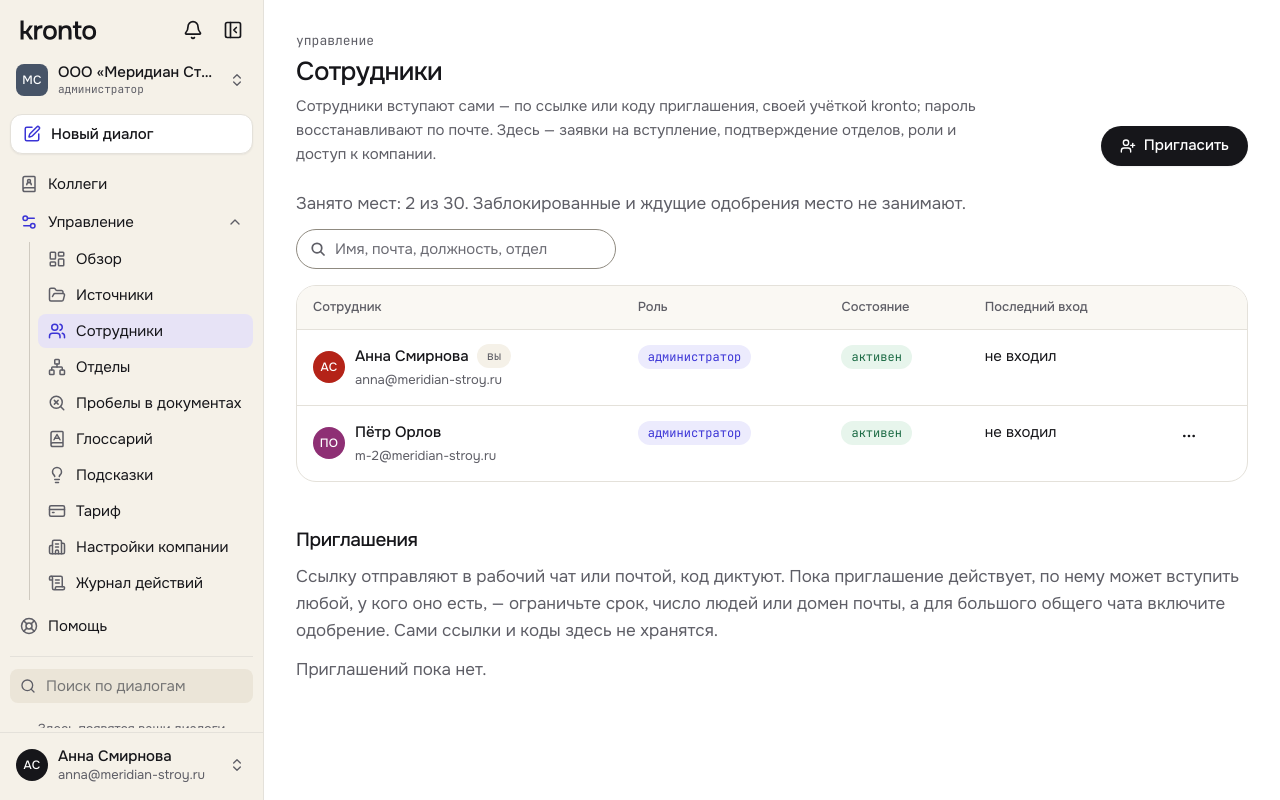
люди компании › отказ сервера (последний администратор) — во всплывающем сообщении
Expected: the text "Пётр Орлов" is shown, [355,420,441,444]
Step 1. Click the button named "Действия: Пётр Орлов" → (1189,436), box [1173,420,1205,452]
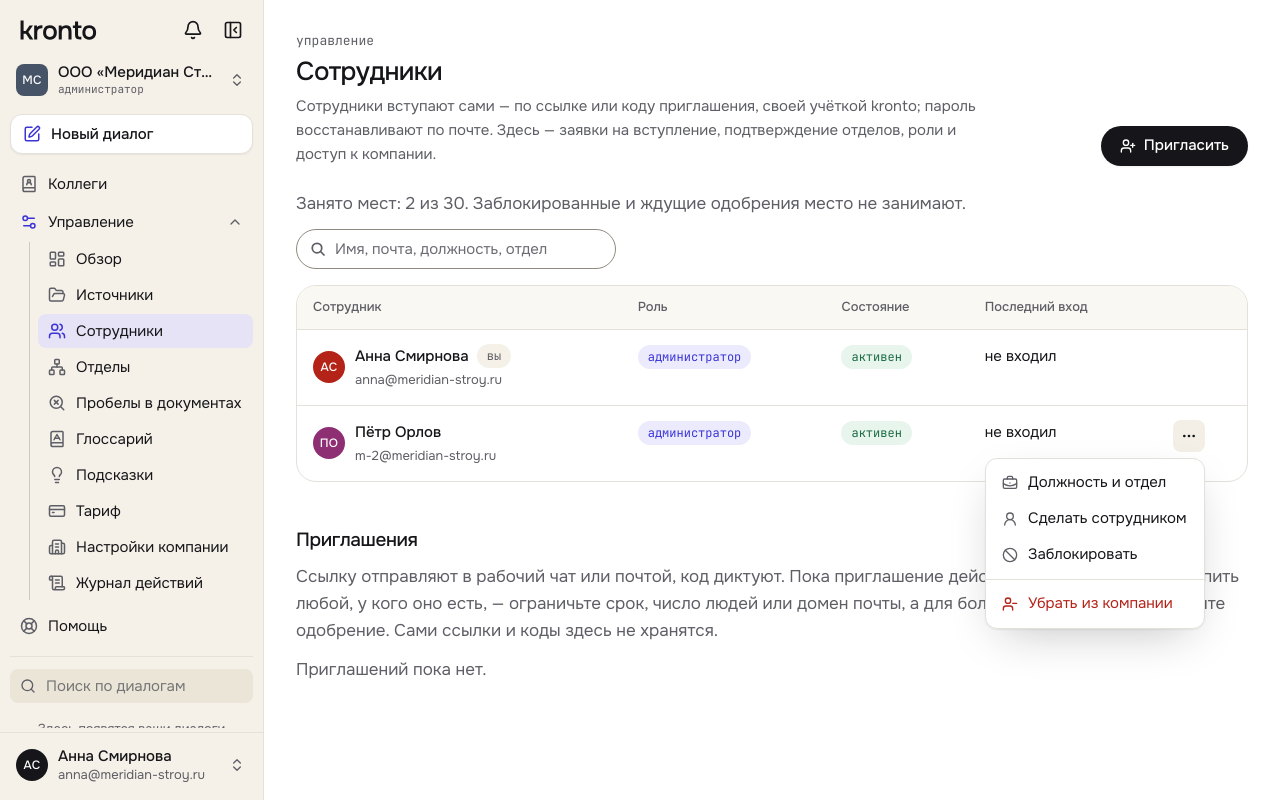
Step 2. Click the menu item "Сделать сотрудником" → (1094,518), box [1002,508,1186,528]
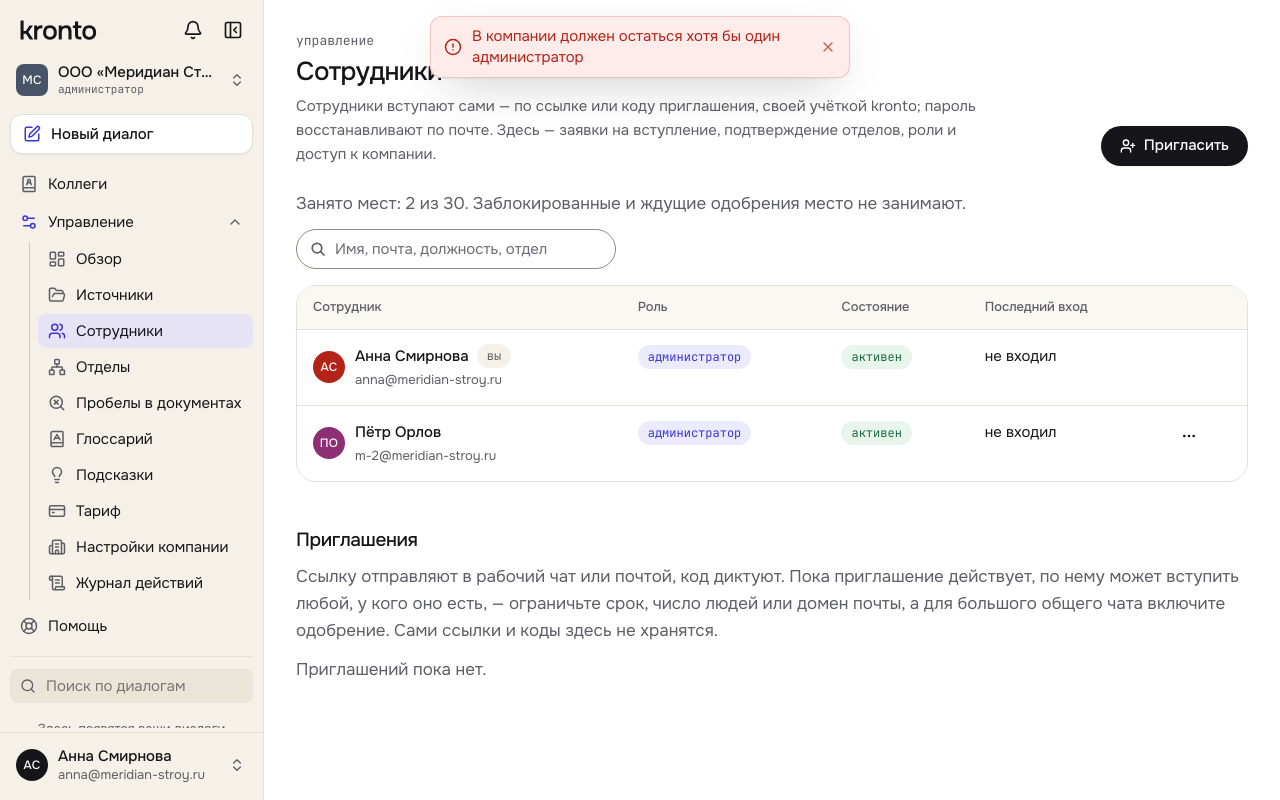
Result: the text "В компании должен остаться хотя бы один администратор" is shown at [472,26,804,68]
